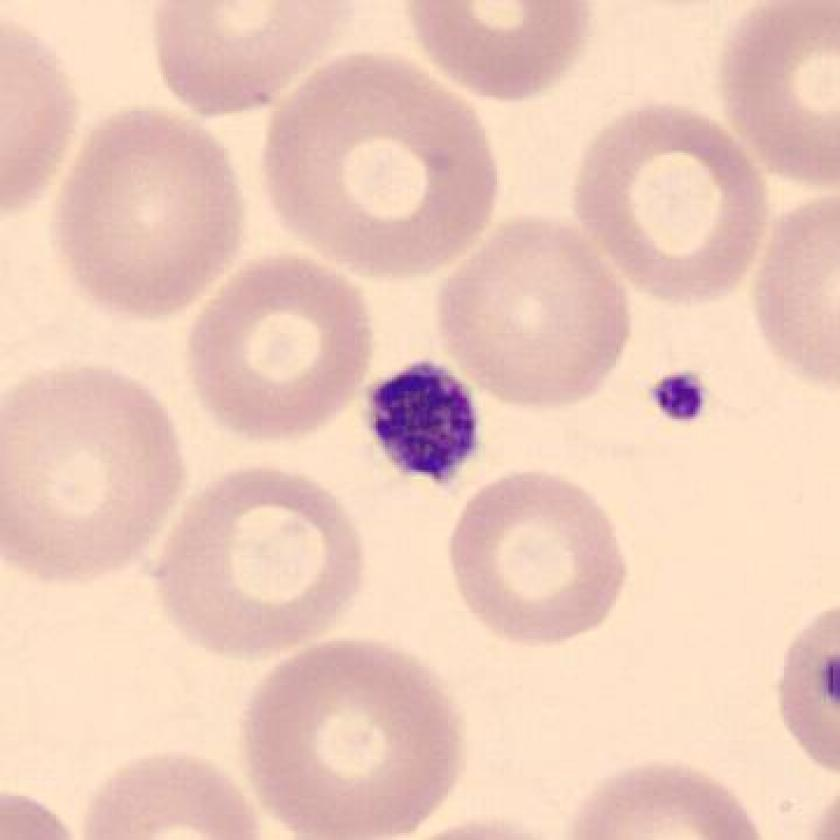platelets: (354, 348, 501, 499), (640, 362, 720, 438)
